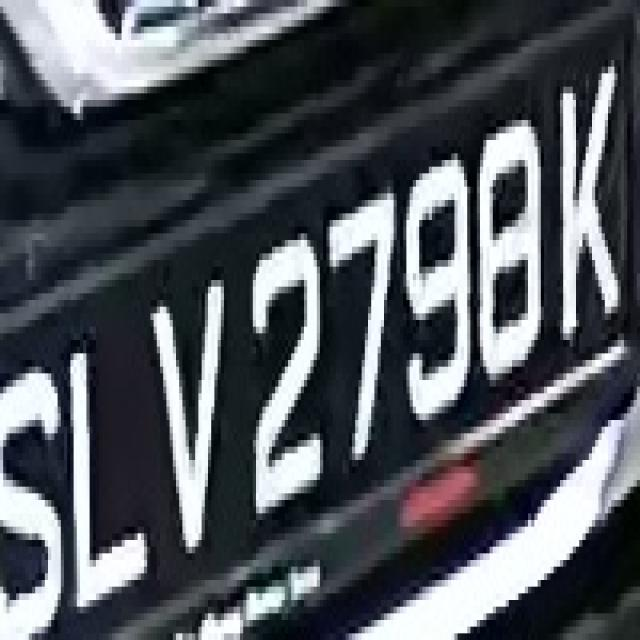2: (240, 214, 326, 534)
7: (320, 187, 406, 500)
8: (474, 113, 547, 420)
9: (400, 160, 477, 447)
K: (554, 60, 627, 367)
L: (58, 307, 144, 613)
V: (147, 267, 234, 580)
